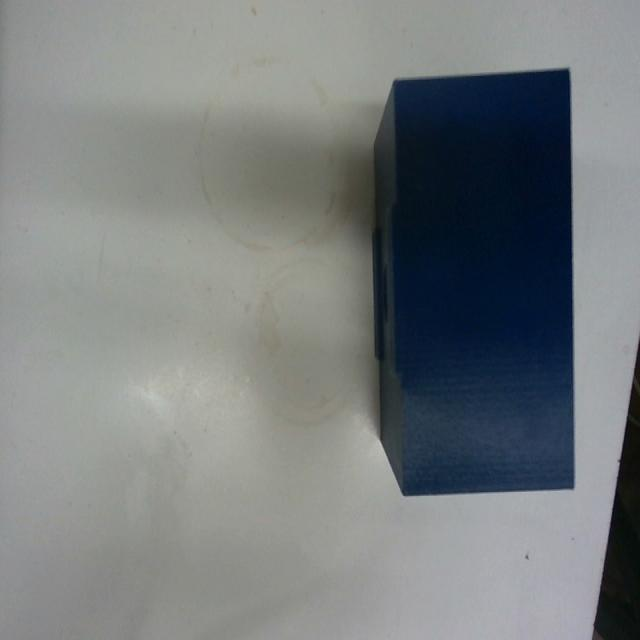Blue Cuboid: (369, 64, 576, 497)
